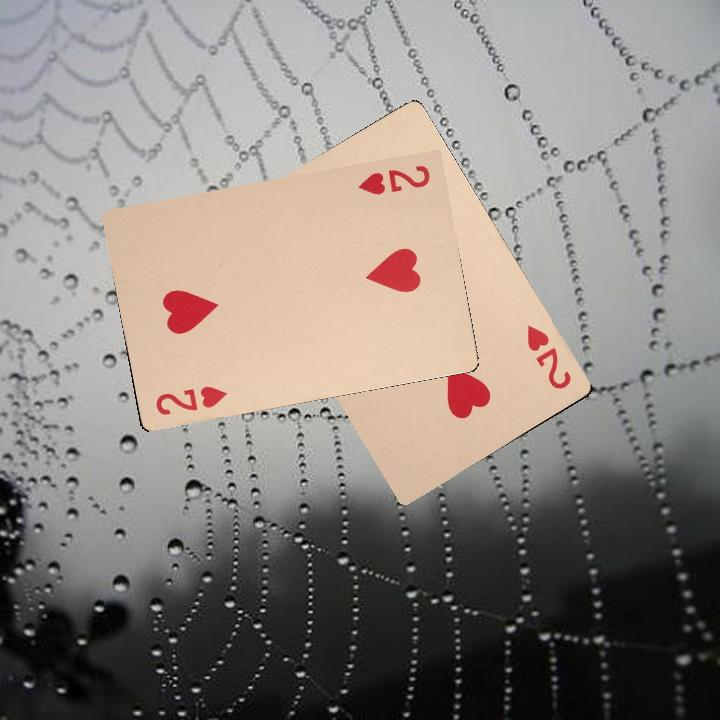2h: (522, 321, 574, 392), (354, 161, 433, 198), (151, 382, 229, 418)
